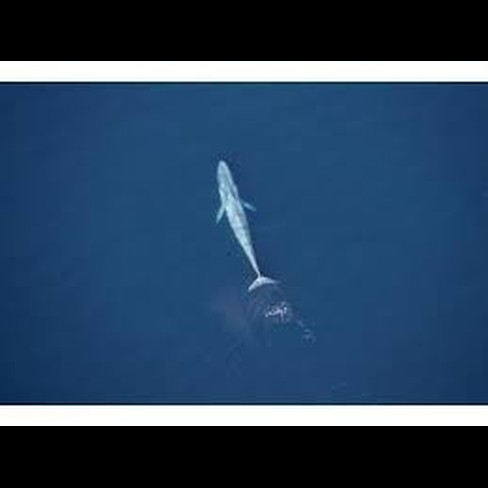bluewhale: (208, 155, 280, 295)
